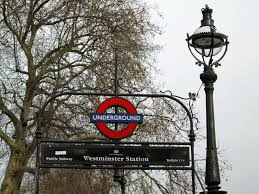London Underground: (91, 98, 141, 138)
